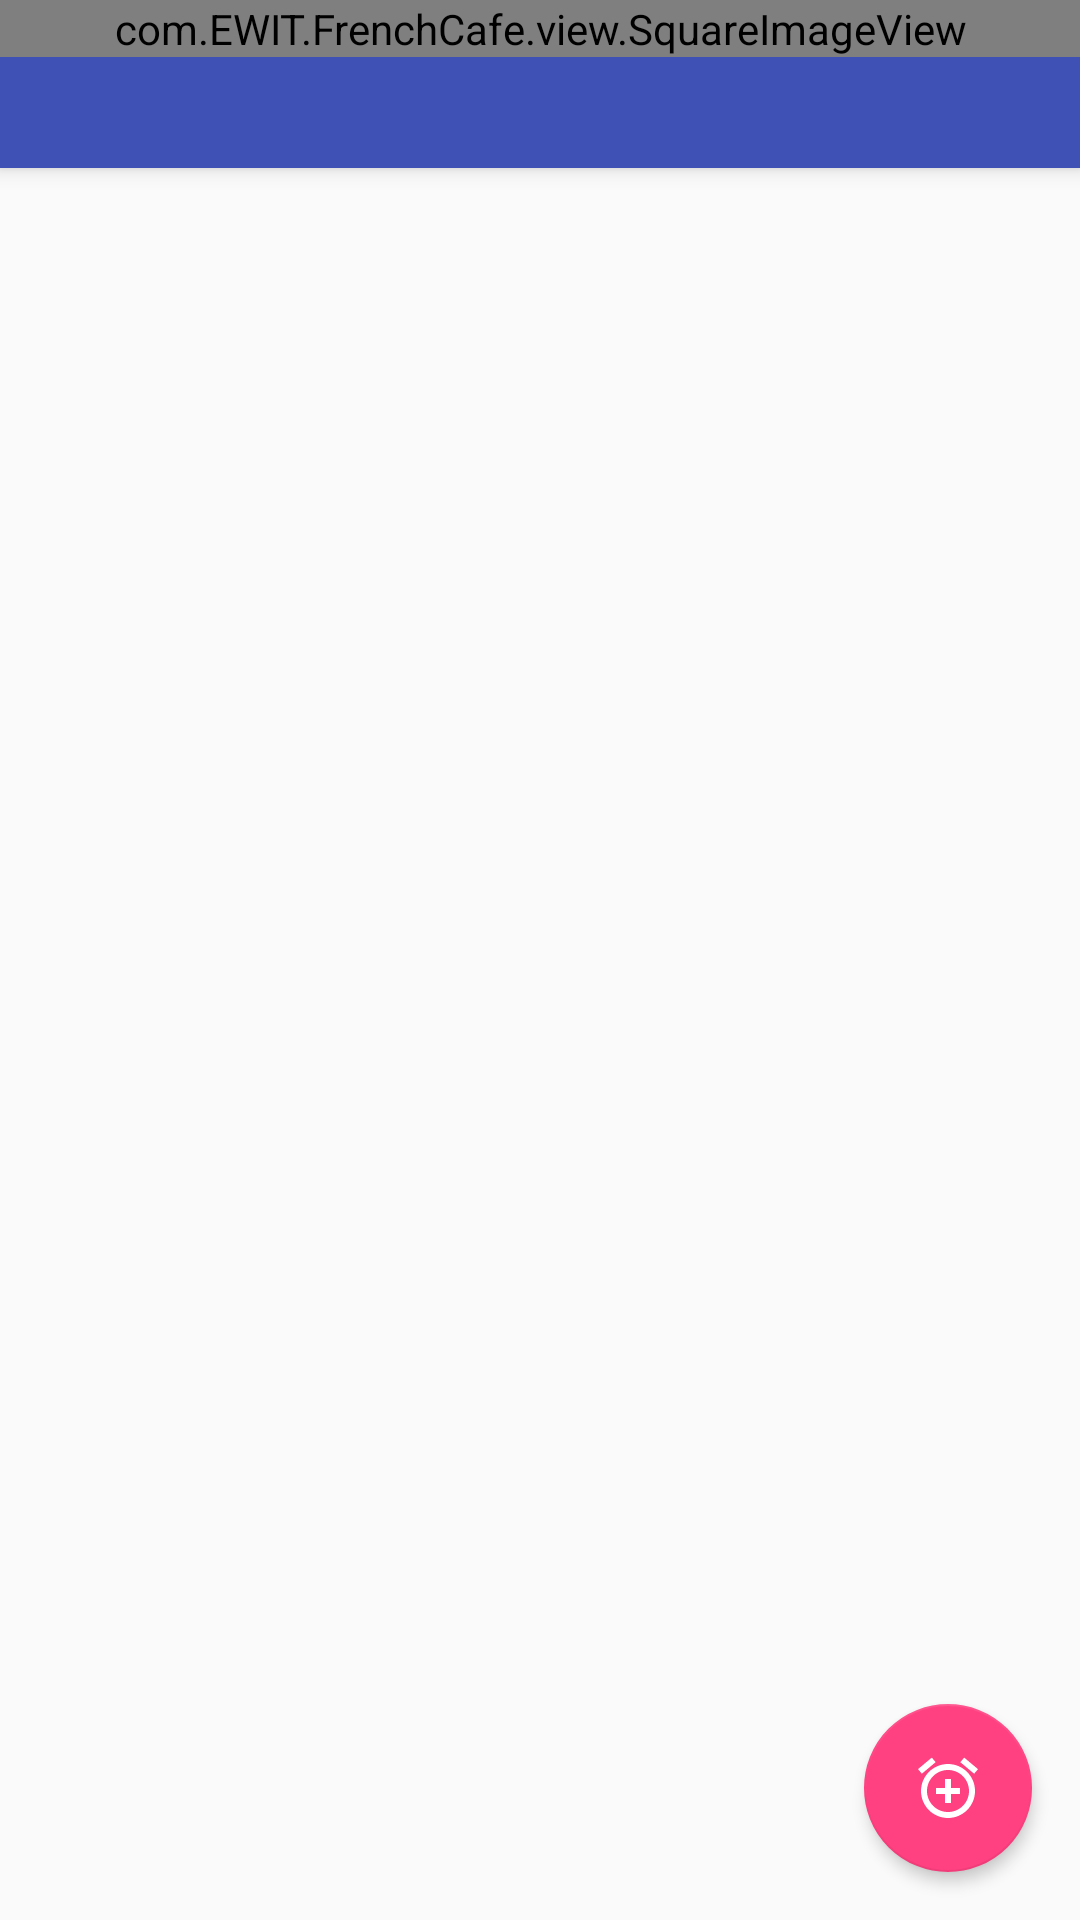

Icon bounding boxes for this 1080 × 1920 phone screenshot, format {"x1": x1, "y1": y1, "x2": x2, "y2": y2}:
alarm add: {"x1": 864, "y1": 1704, "x2": 1033, "y2": 1881}
